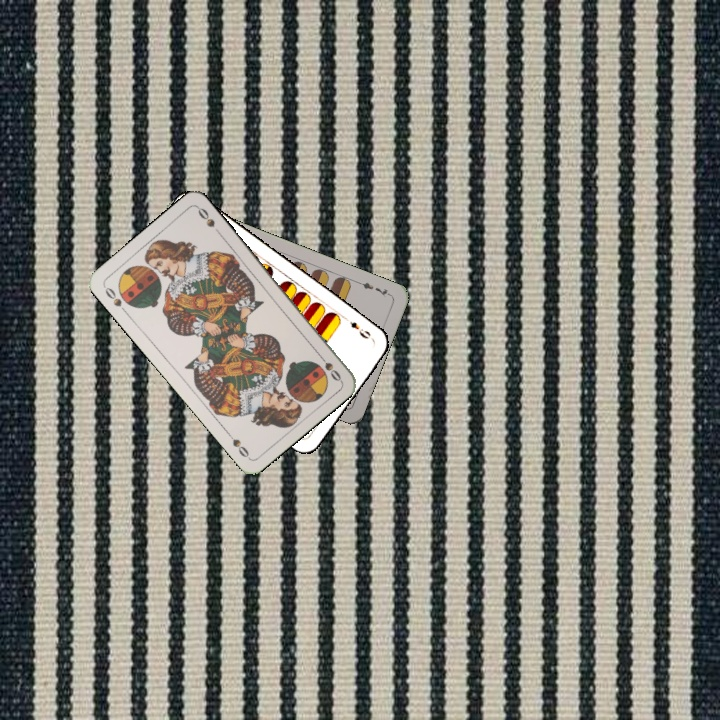E7: (354, 277, 393, 299)
E9: (341, 314, 376, 343)
SO: (314, 349, 344, 384), (100, 282, 130, 316)
